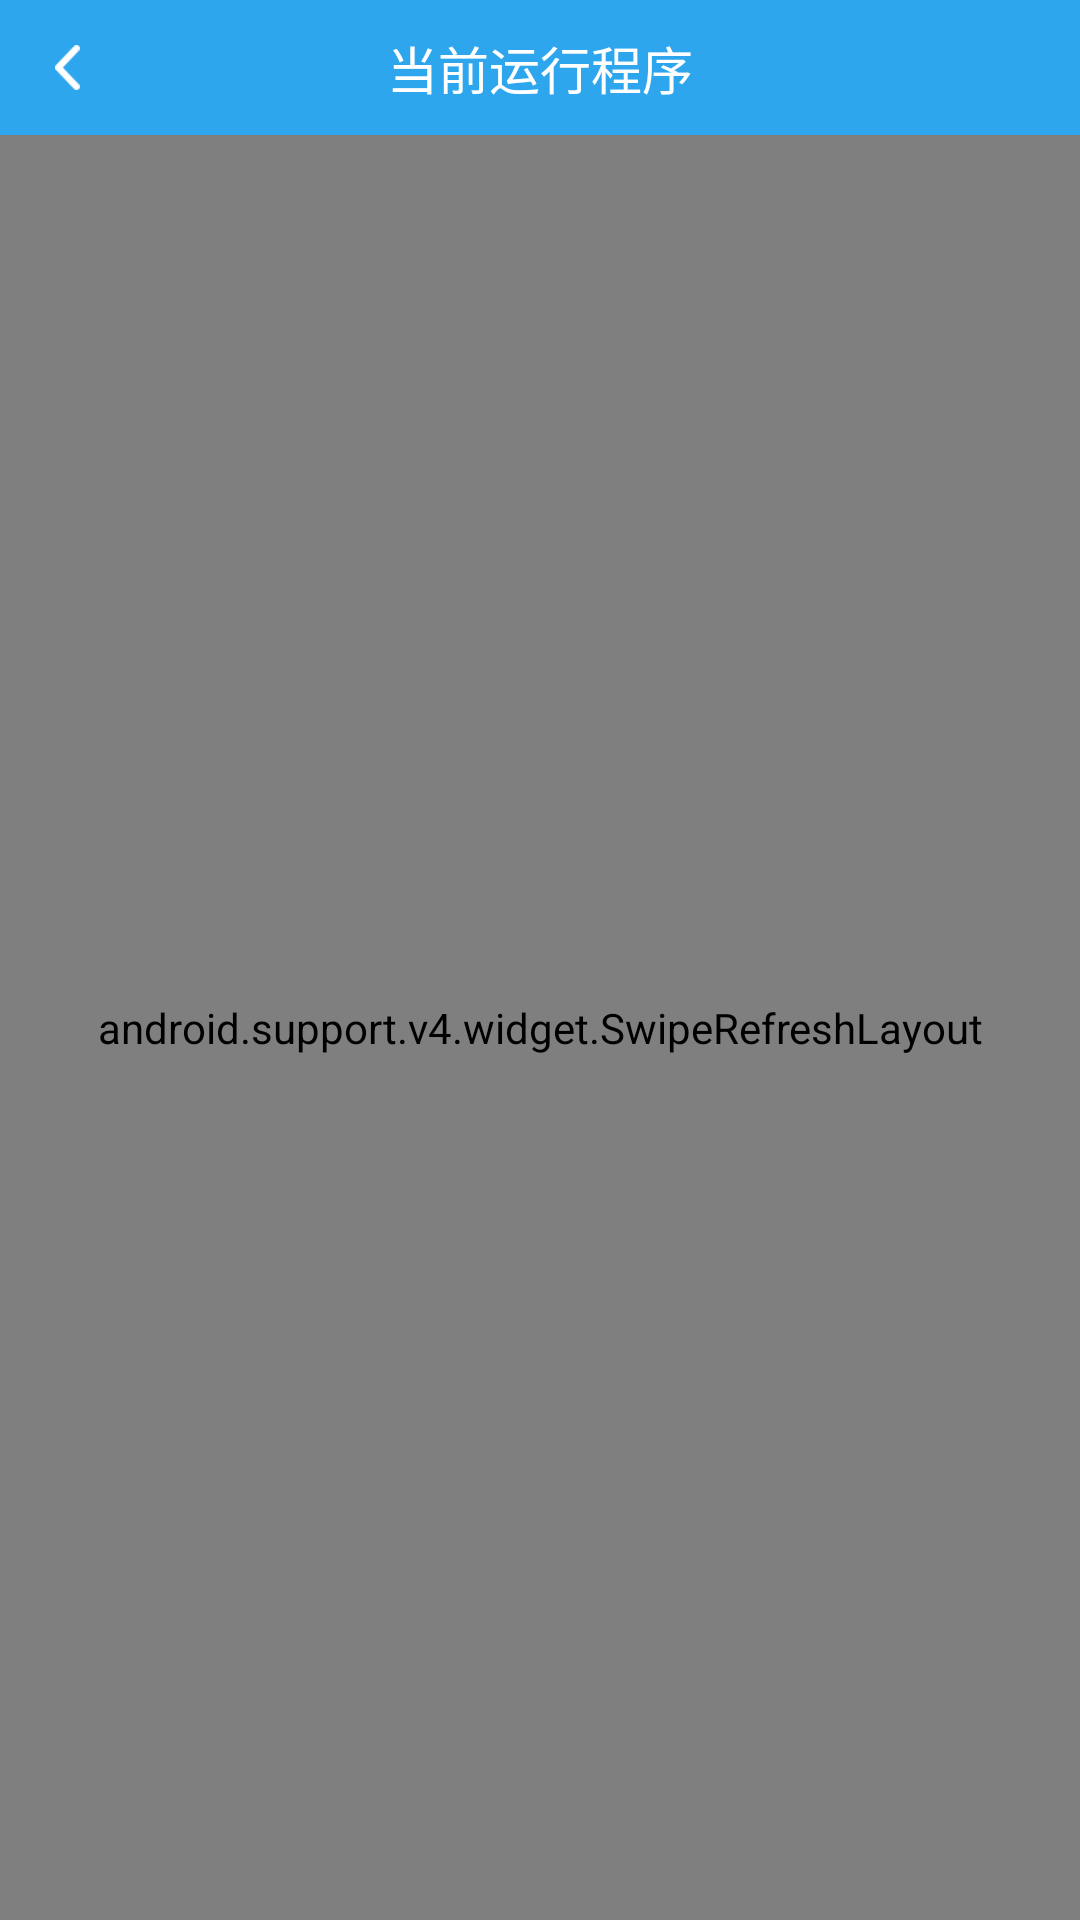

Icons on this 1080w x 1920h Android screen, each with its box as (x1, y1, x2, y2):
back: (55, 45, 80, 90)
